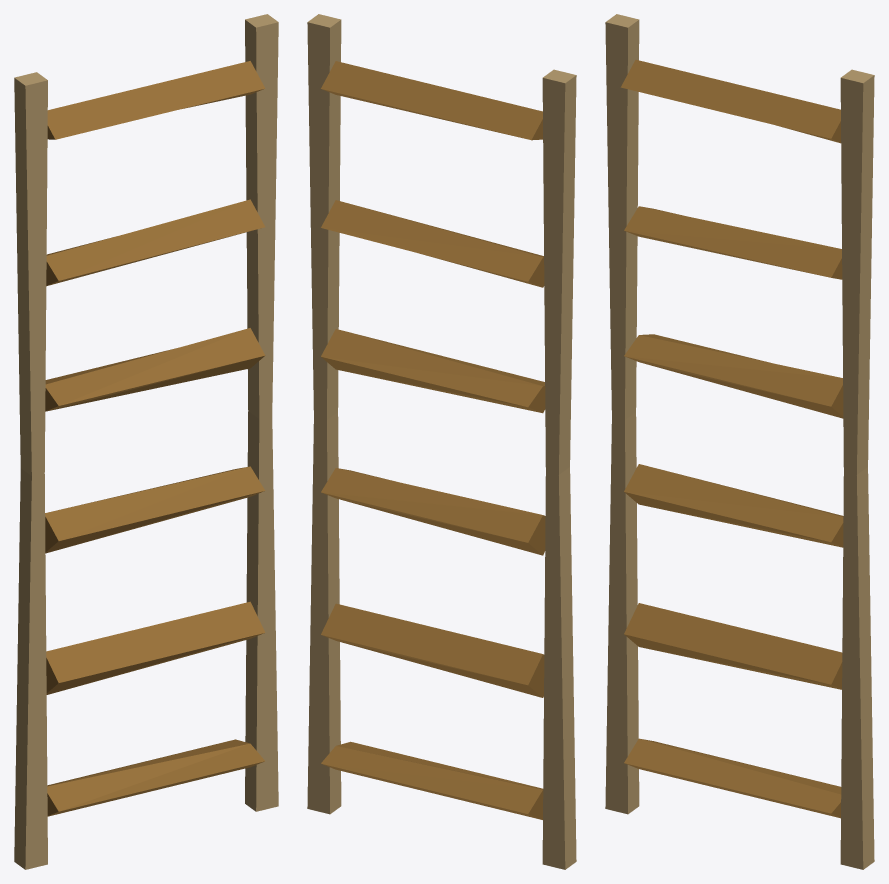
The model's file is obj_ships_ladder_5_0.obj.
The picture shows the model from 3 angles, left to right: view 1: azimuth 30°, elevation 25°; view 2: azimuth 150°, elevation 25°; view 3: azimuth 330°, elevation 25°; orthographic projection.
Bounding box in the file's own units: 0.6172 × 1.81 × 0.125.
